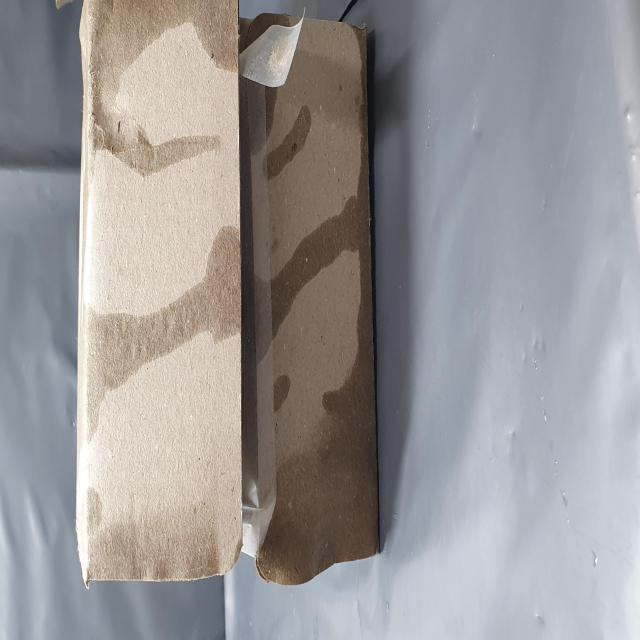wet: (37, 136, 360, 427), (30, 479, 303, 640)
